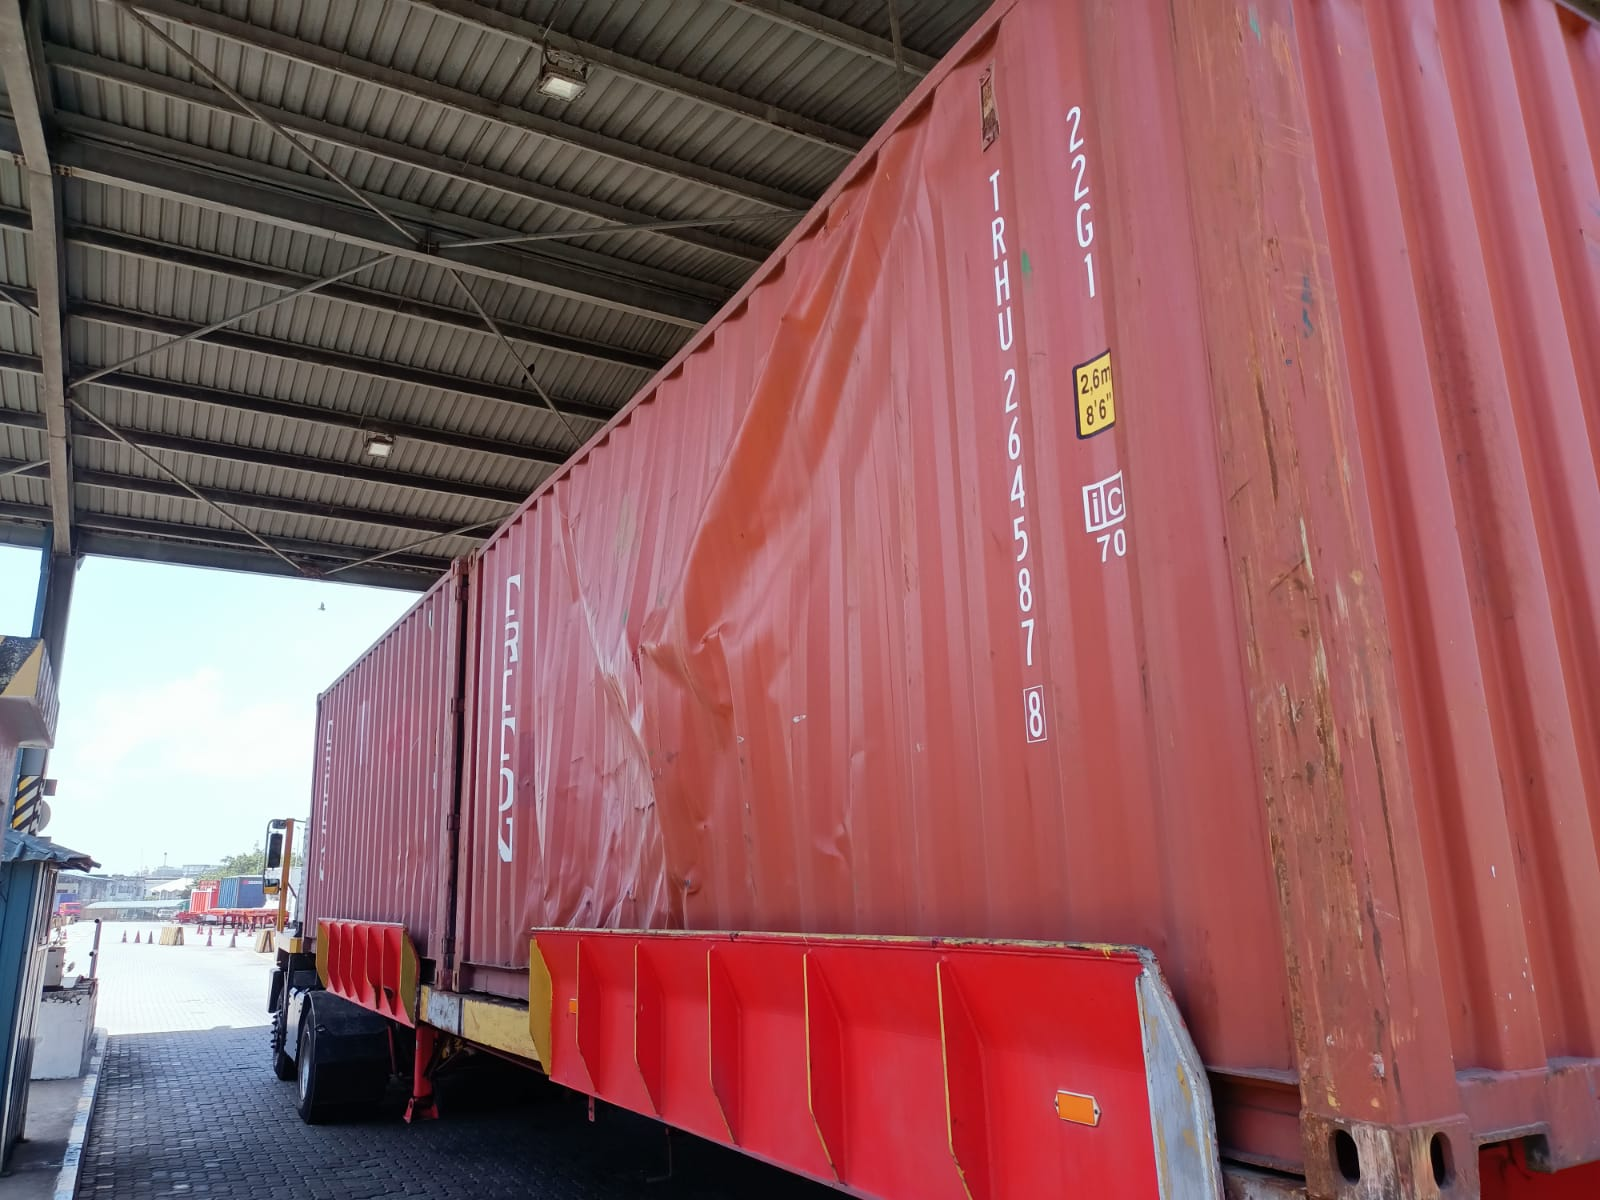bulged: (640, 117, 966, 845), (535, 568, 635, 920)
